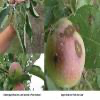Apple rust leaf: (10, 8, 30, 53)
